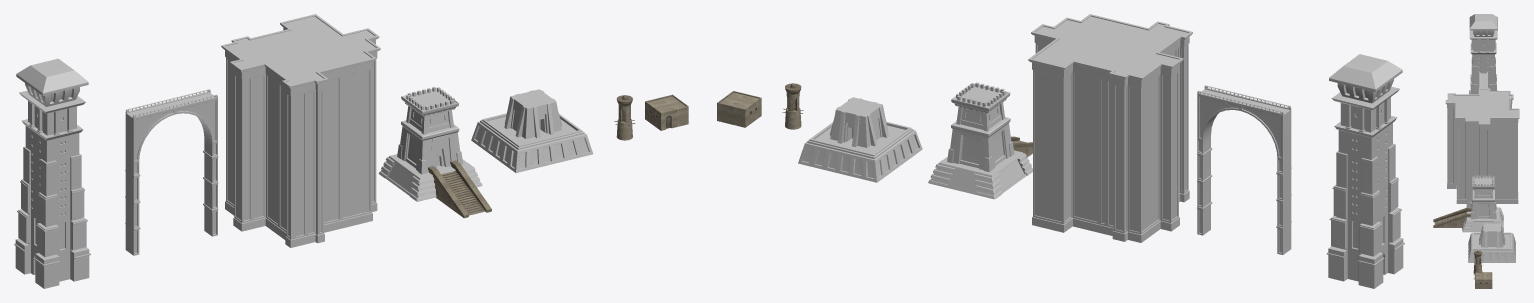
The model's file is ancient_arch.fbx.
3 views of the same model, side by side, from view 1: azimuth 30°, elevation 25°; view 2: azimuth 150°, elevation 25°; view 3: azimuth 270°, elevation 25° (orthographic). The views are drawn at different scales.
Parts seen in each view (by area): view 1: ancient_arch_3, ancient_arch_1, ancient_arch_2, ancient_arch_6, ancient_arch_4b, ancient_arch_6b, ancient_acrh_5, ancient_arch_4c, ancient_arch_4, elem8, elem7; view 2: ancient_arch_3, ancient_arch_1, ancient_arch_2, ancient_arch_6, ancient_arch_4, ancient_arch_4b, ancient_arch_6b, ancient_arch_4c, elem8, elem7; view 3: ancient_arch_3, ancient_arch_1, ancient_arch_6, ancient_arch_4b, ancient_arch_6b, ancient_arch_4, ancient_acrh_5, ancient_arch_4c, elem8, elem7, ancient_arch_2.
Boxes of the visible parts, left/top/right/bottom form: ancient_arch_3: left=221, top=14, right=380, bottom=247; ancient_arch_1: left=14, top=58, right=90, bottom=288; ancient_arch_2: left=125, top=89, right=218, bottom=255; ancient_arch_6: left=471, top=113, right=593, bottom=172; ancient_arch_4b: left=397, top=120, right=462, bottom=174; ancient_arch_6b: left=504, top=89, right=562, bottom=138; ancient_acrh_5: left=428, top=160, right=491, bottom=218; ancient_arch_4c: left=401, top=87, right=458, bottom=134; ancient_arch_4: left=378, top=154, right=482, bottom=201; elem8: left=645, top=94, right=688, bottom=130; elem7: left=614, top=95, right=635, bottom=140; ancient_arch_3: left=1028, top=14, right=1192, bottom=242; ancient_arch_1: left=1326, top=54, right=1404, bottom=288; ancient_arch_2: left=1197, top=85, right=1291, bottom=254; ancient_arch_6: left=798, top=121, right=922, bottom=182; ancient_arch_4: left=928, top=150, right=1032, bottom=199; ancient_arch_4b: left=947, top=117, right=1014, bottom=172; ancient_arch_6b: left=830, top=97, right=888, bottom=147; ancient_arch_4c: left=951, top=82, right=1010, bottom=131; elem8: left=717, top=91, right=761, bottom=127; elem7: left=782, top=83, right=803, bottom=129; ancient_arch_3: left=1445, top=88, right=1519, bottom=207; ancient_arch_1: left=1469, top=14, right=1498, bottom=94; ancient_arch_6: left=1468, top=232, right=1515, bottom=262; ancient_arch_4b: left=1470, top=190, right=1496, bottom=219; ancient_arch_6b: left=1479, top=223, right=1505, bottom=248; ancient_arch_4: left=1462, top=207, right=1503, bottom=232; ancient_acrh_5: left=1433, top=207, right=1471, bottom=227; ancient_arch_4c: left=1472, top=175, right=1494, bottom=198; elem8: left=1474, top=272, right=1492, bottom=288; elem7: left=1473, top=250, right=1483, bottom=273; ancient_arch_2: left=1479, top=71, right=1487, bottom=88.
Bounding box in the file's own units: 16125 × 4881 × 3485.
